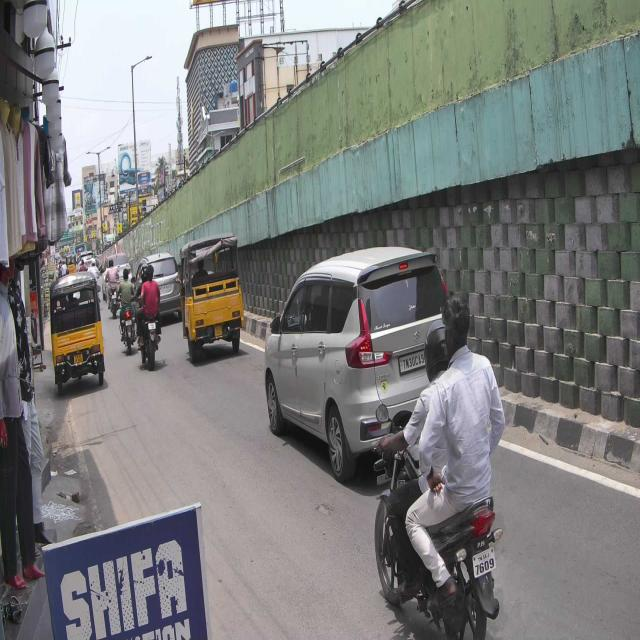double_rider: (372, 289, 507, 640)
